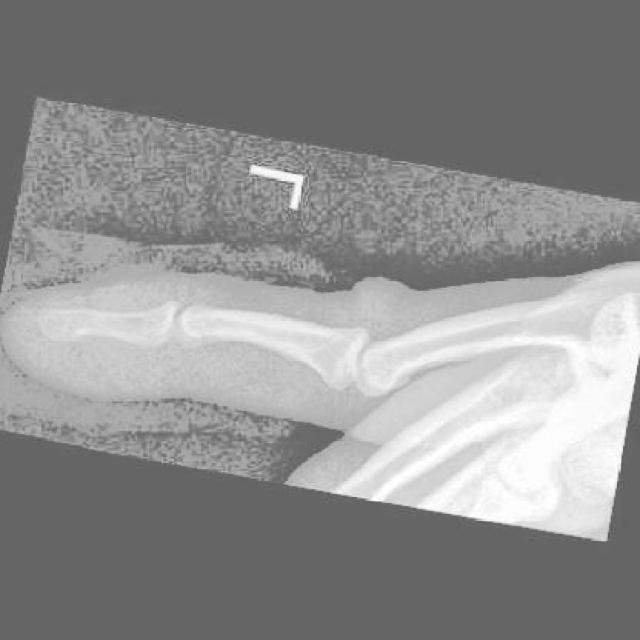Fracture: (29, 298, 94, 354)
